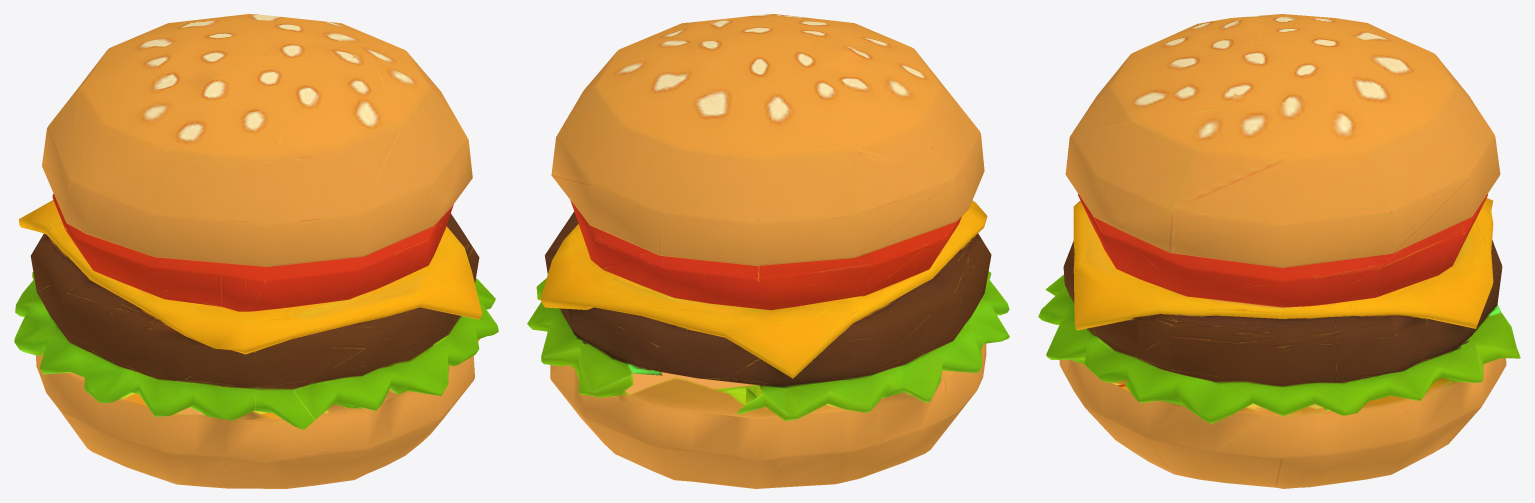
Rendered from burger.glb.
The picture shows the model from 3 angles, left to right: view 1: azimuth 30°, elevation 25°; view 2: azimuth 150°, elevation 25°; view 3: azimuth 270°, elevation 25°; orthographic projection.
Size of the model in its own units: 1.86 by 1.61 by 1.86.
Materials: 1 (1 with a texture image).
